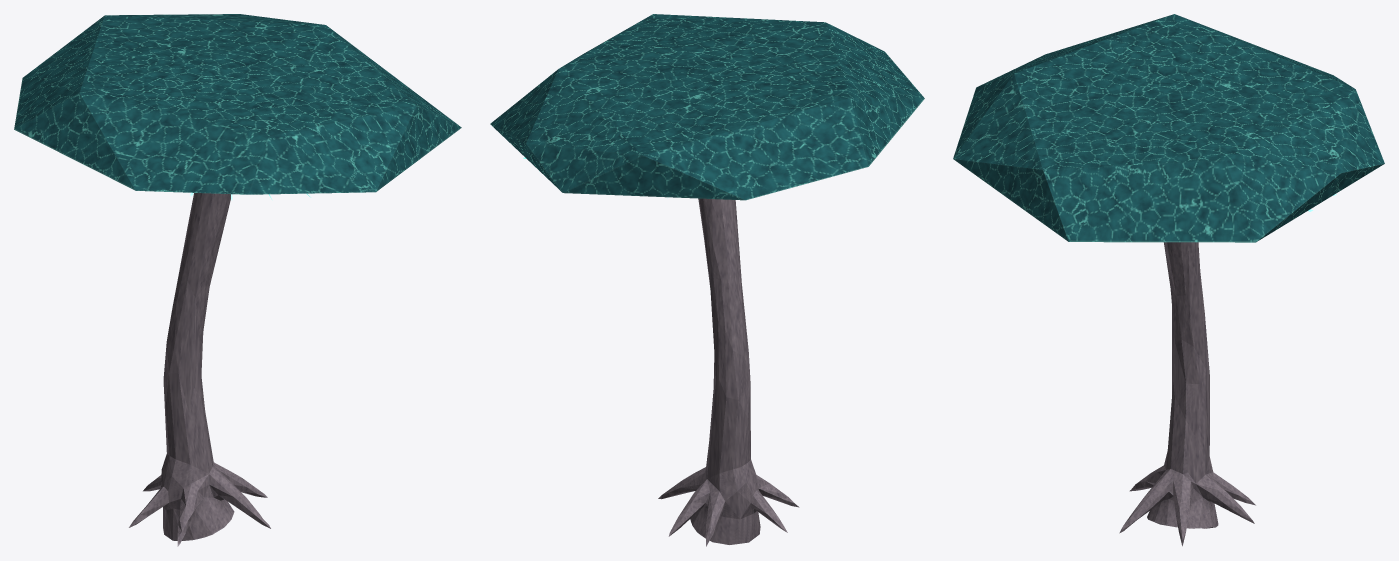
The model's file is underworld-flora-fungal-glowcap-elder.glb.
The picture shows the model from 3 angles, left to right: view 1: azimuth 30°, elevation 25°; view 2: azimuth 150°, elevation 25°; view 3: azimuth 270°, elevation 25°; orthographic projection. The views are drawn at different scales.
Visible parts, largest first — view 1: caps, fused-stalk; view 2: caps, fused-stalk; view 3: caps, fused-stalk.
Boxes of the visible parts, box(x1,y1,x2,y2) form: caps: box(14, 14, 461, 194); fused-stalk: box(129, 193, 270, 546); caps: box(490, 14, 924, 200); fused-stalk: box(658, 198, 799, 546); caps: box(953, 14, 1384, 242); fused-stalk: box(1119, 242, 1255, 546).
Bounding box in the file's own units: 8.81 × 10.73 × 9.17.
3 materials, 3 textured.
